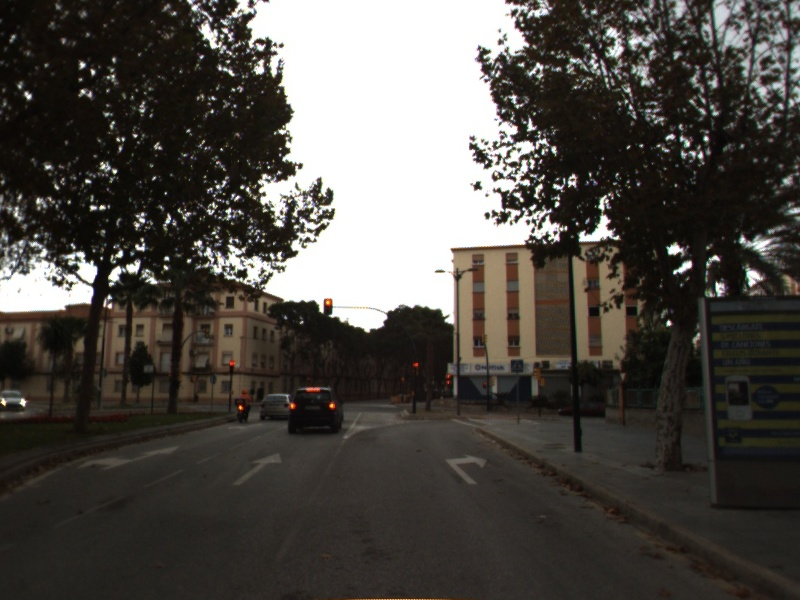RIGHT: (442, 452, 491, 487)
STRAIGHT: (230, 451, 284, 487)
STRAIGHT_LEFT: (75, 443, 183, 472)
